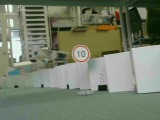speed_10: (70, 44, 91, 64)
